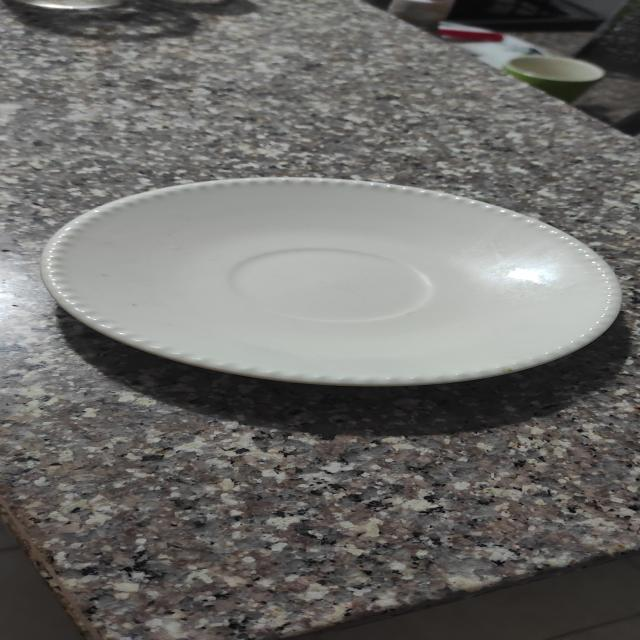ceramic plate: (25, 167, 640, 397)
